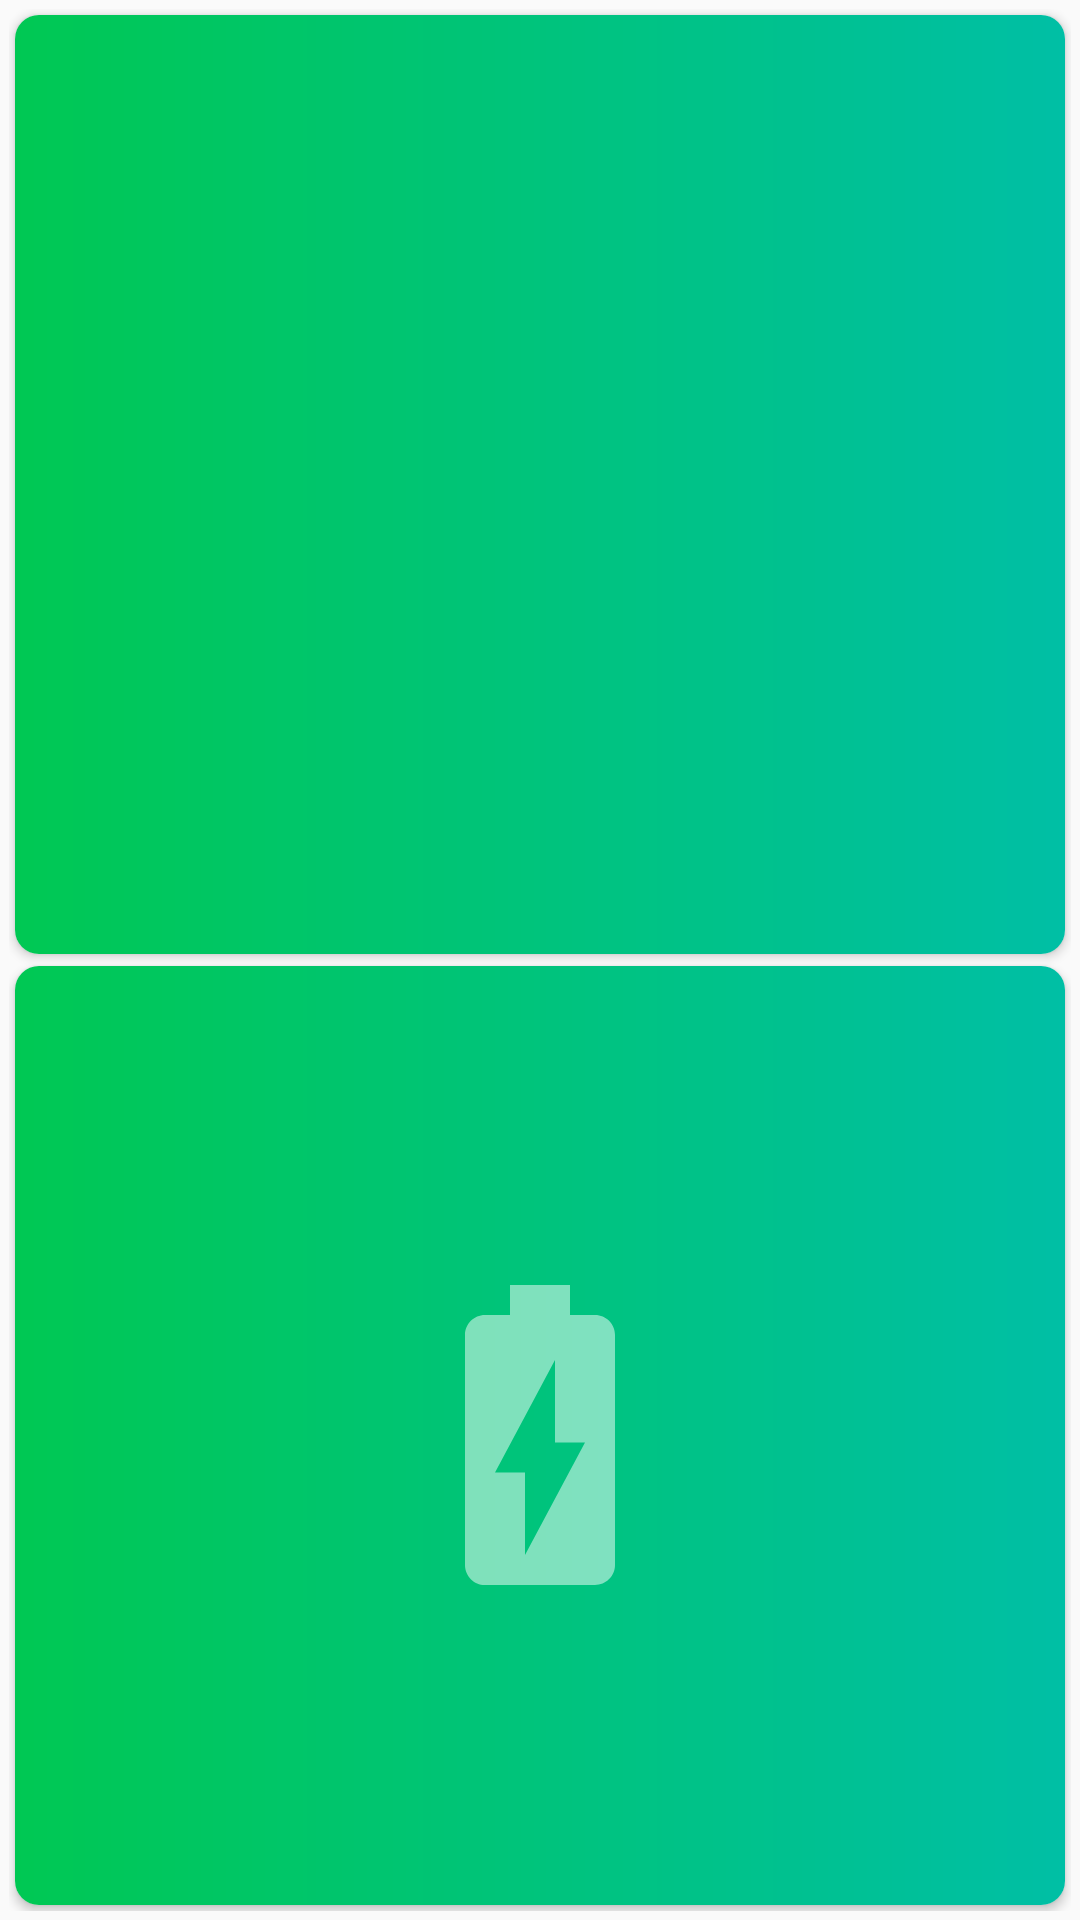

Where to tap for icons on this 1080×1920 app screen, as (x,y):
battery charging: (540,1435)
